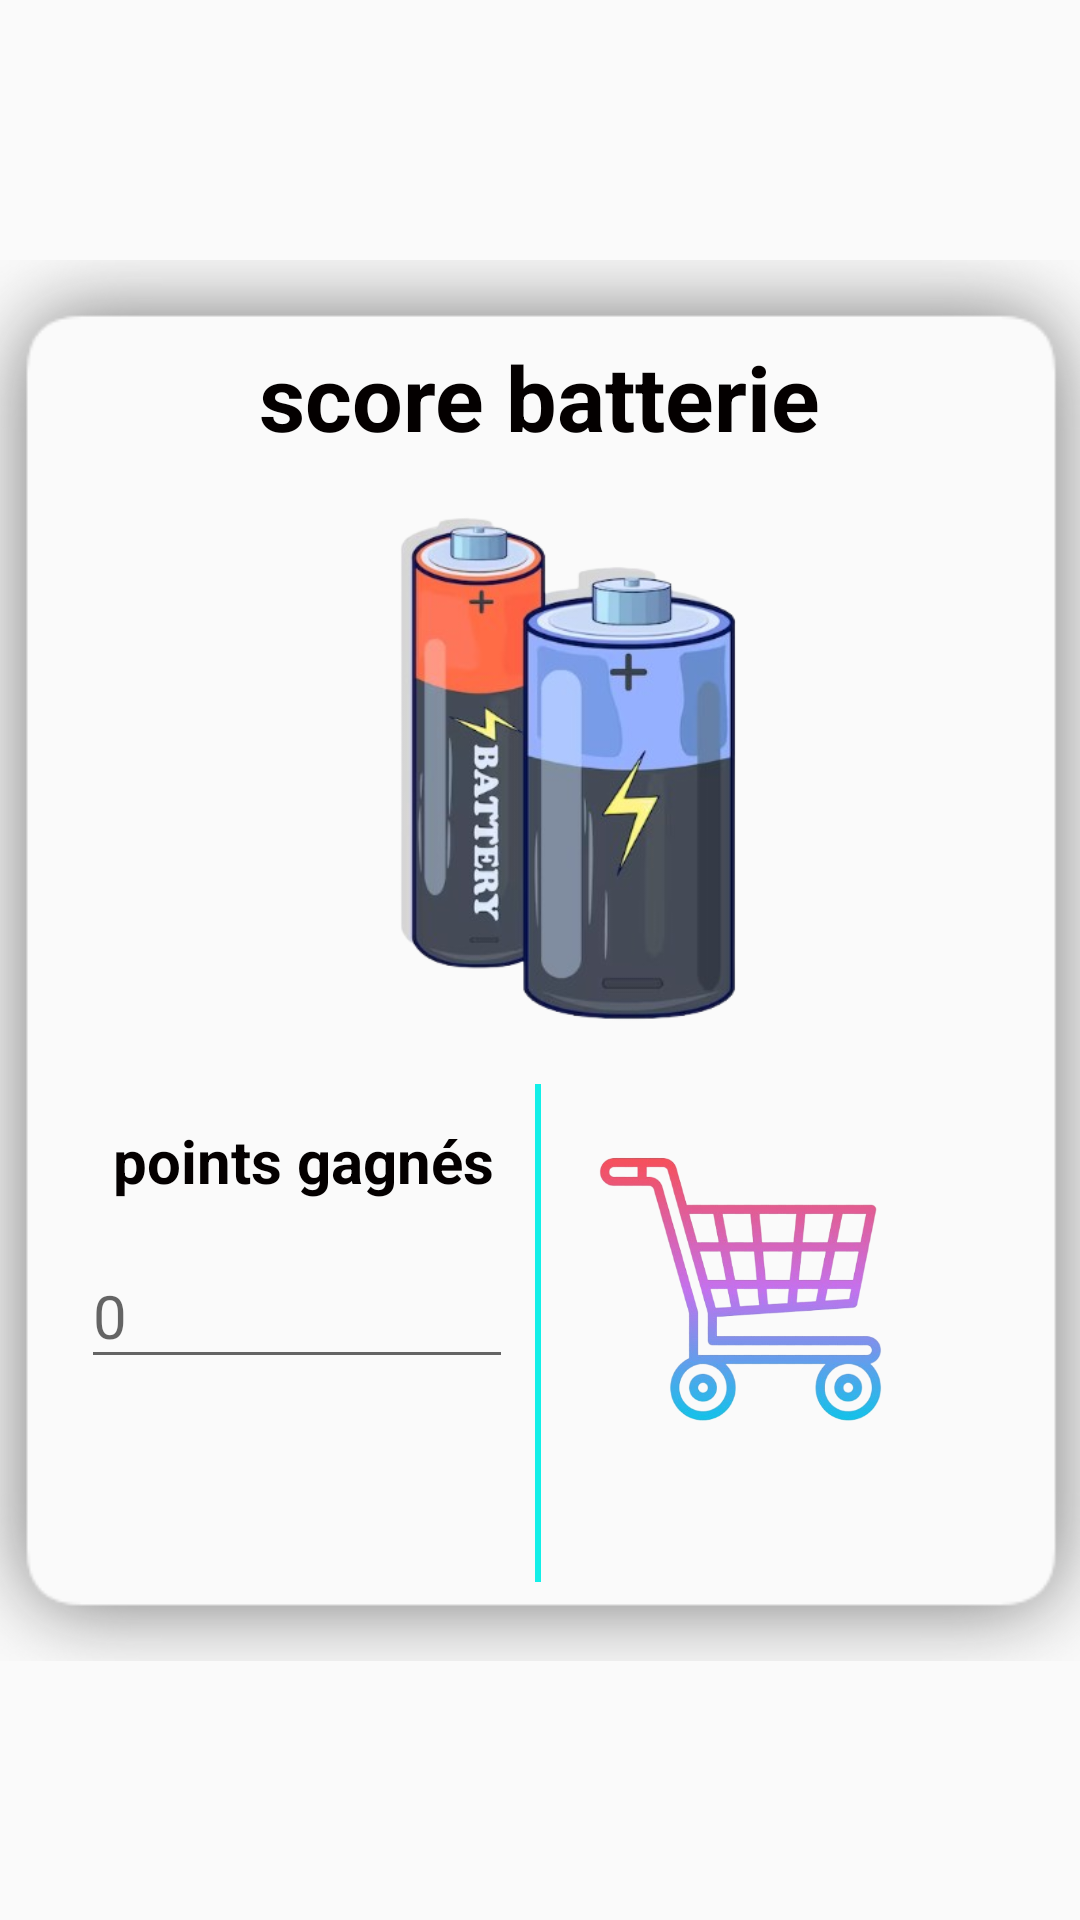

Icon bounding boxes for this 1080px x 1920px phone screenshot, format detection(x1, y1, x2, y2):
shooping: detection(600, 1158, 881, 1421)
